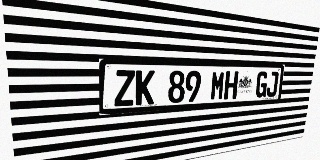8: (168, 70, 186, 103)
9: (184, 71, 202, 102)
G: (255, 71, 268, 98)
H: (224, 71, 239, 100)
J: (266, 72, 279, 97)
K: (135, 70, 155, 105)
M: (210, 71, 226, 101)
Z: (114, 70, 135, 107)
